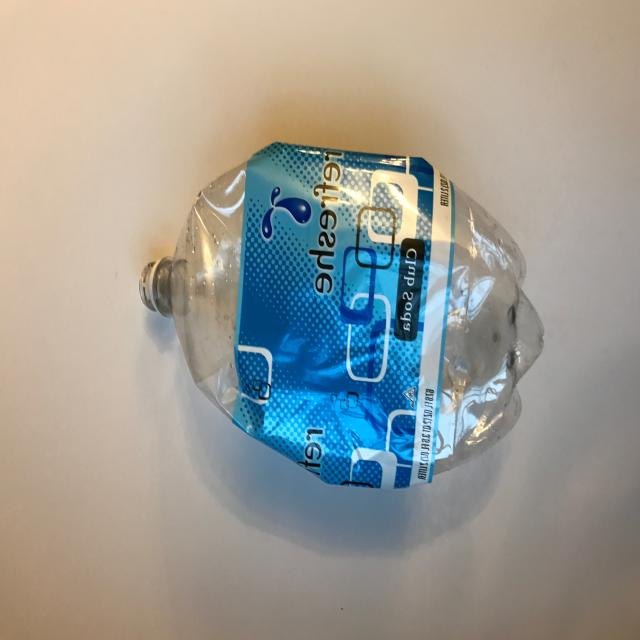plastic: (139, 140, 545, 490)
